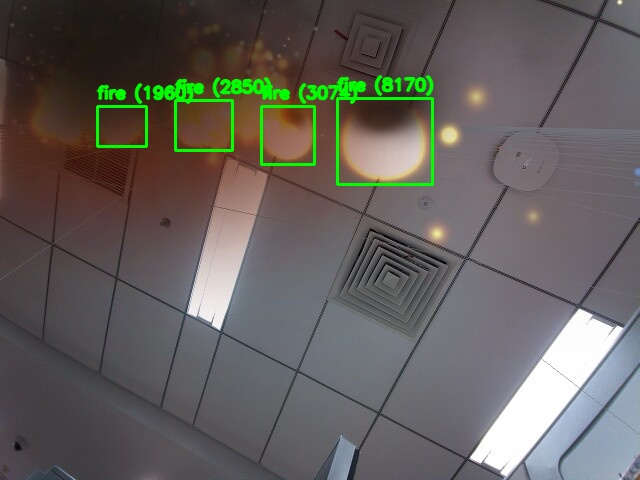fire: (337, 98, 432, 184), (261, 106, 314, 164), (175, 100, 232, 150), (97, 106, 146, 146)
